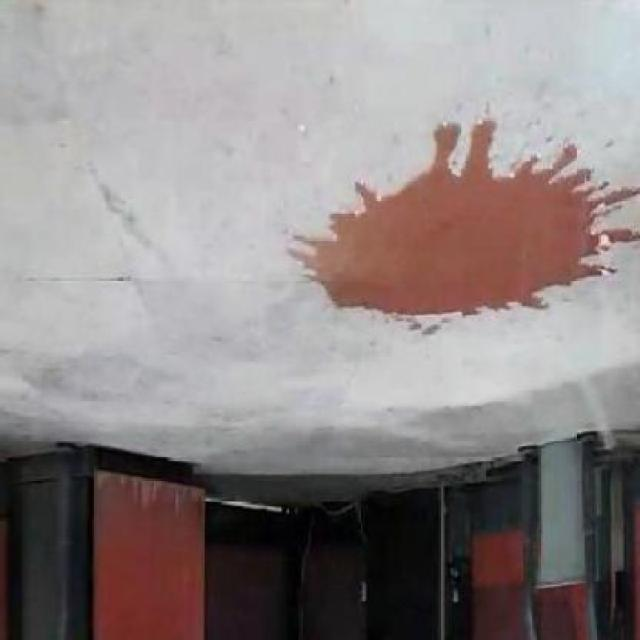spillage: (289, 115, 636, 314)
